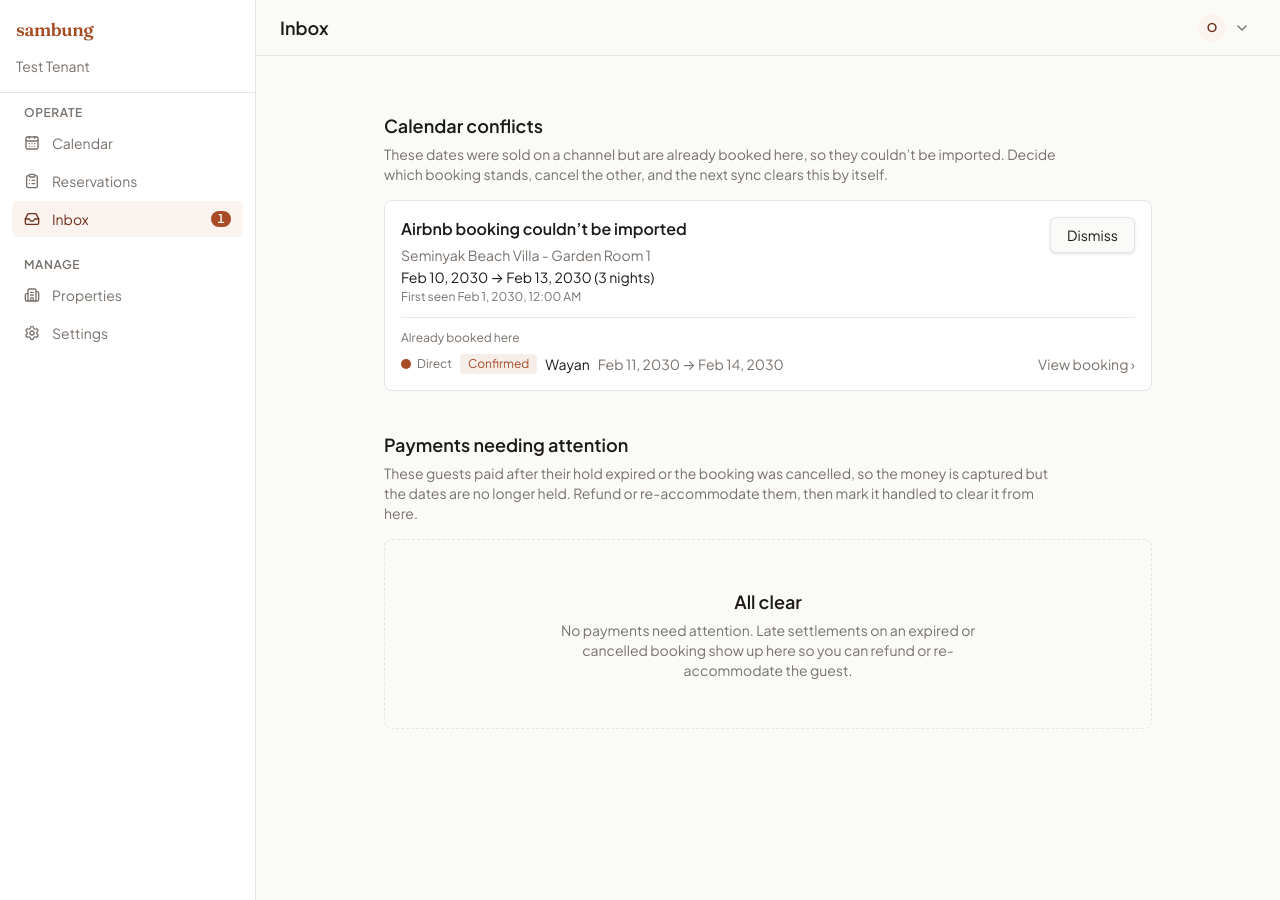
Test: sync-conflict inbox section (#38) › dismisses an item and refetches so it drops from the list
Click the button "Dismiss" at coordinates (1093, 235), box [1050,217,1135,253]
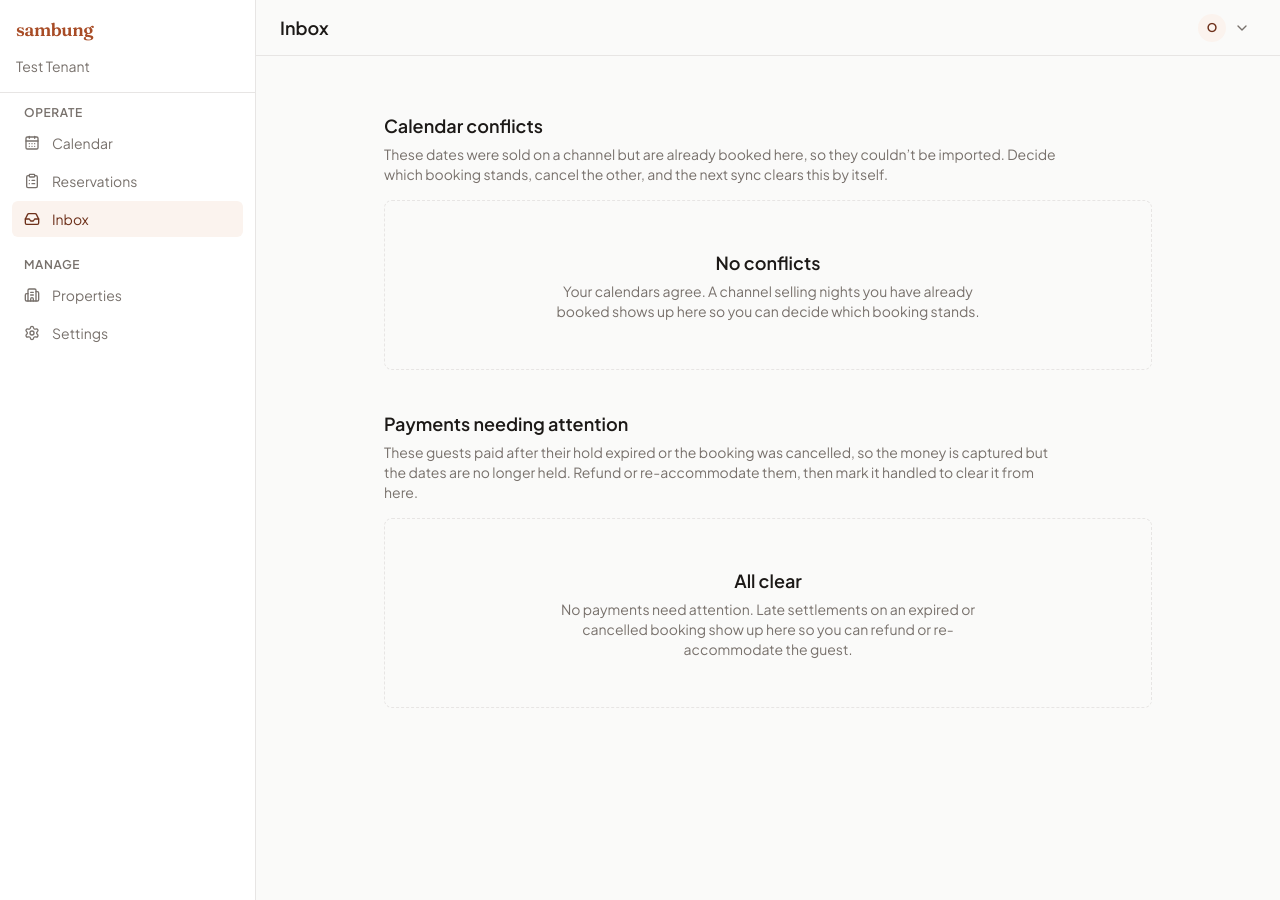
Check: the text "Airbnb booking couldn’t be imported" is gone
